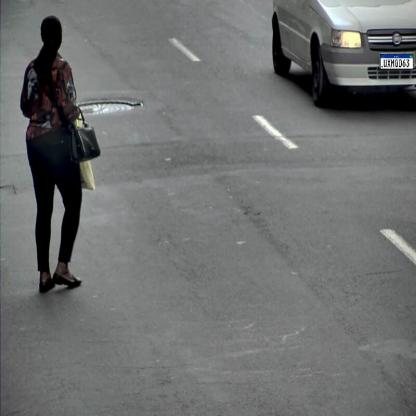PlacaM: (380, 54, 414, 69)
